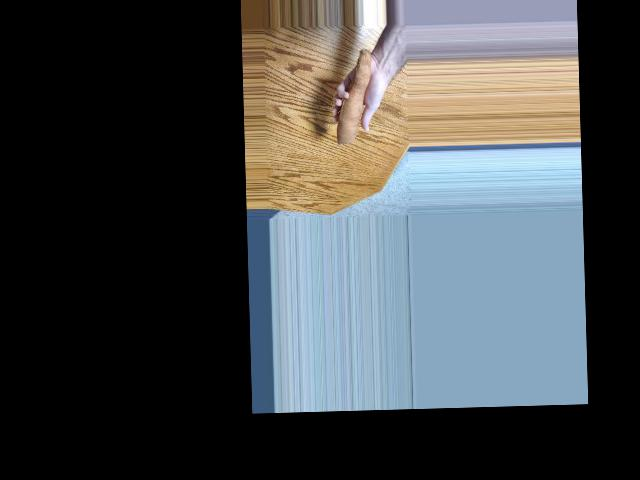sweet_potato: (330, 39, 374, 146)
